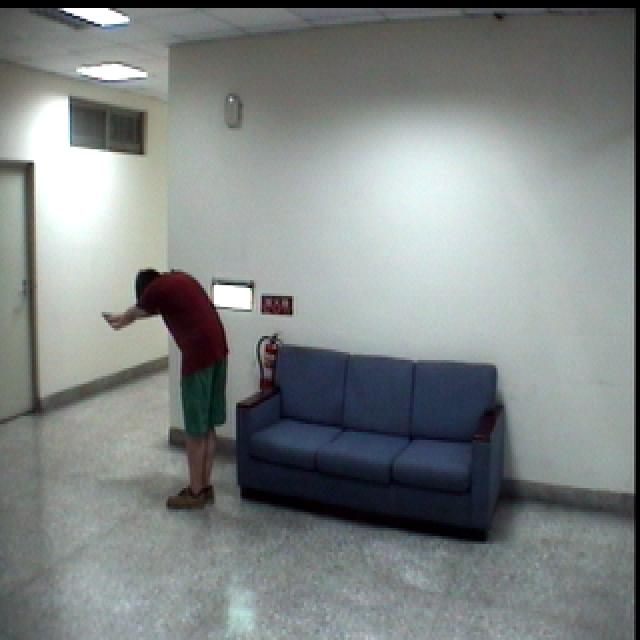bend: (101, 264, 237, 510)
